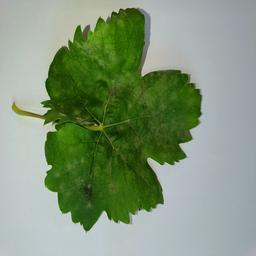Powdery-Mildew: (80, 24, 136, 85), (130, 77, 183, 117), (54, 160, 85, 193), (106, 173, 132, 210), (58, 128, 84, 153), (148, 129, 176, 148)
